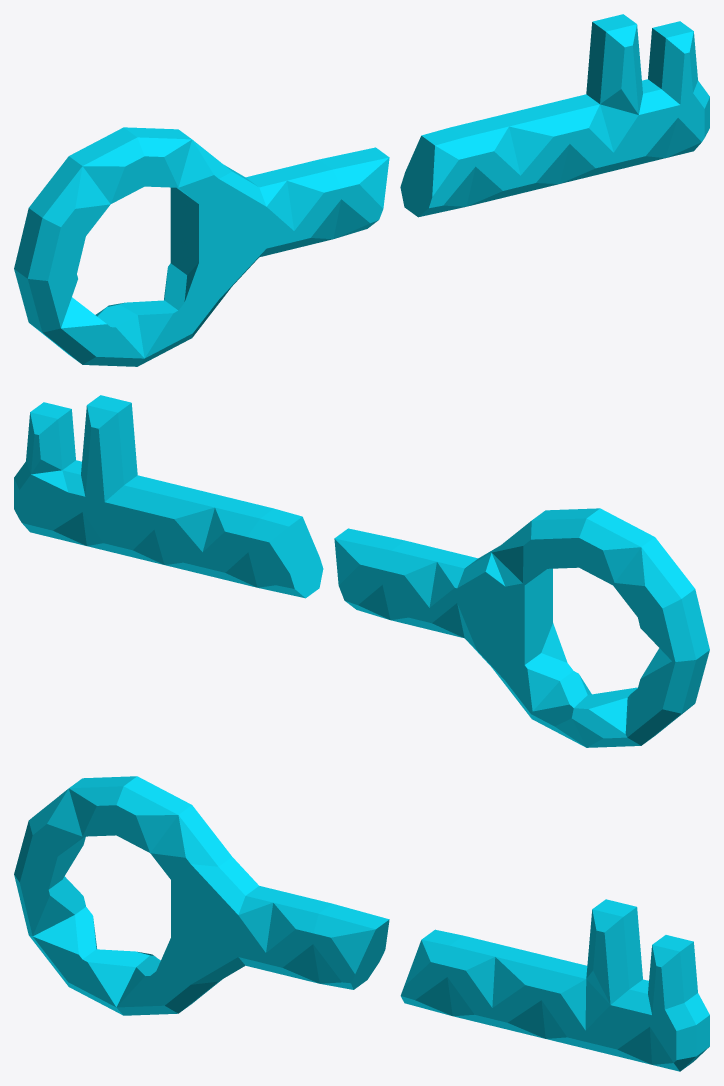
Rendered from key_broken_blue.glb.
3 views of the same model, one above another, from view 1: azimuth 30°, elevation 25°; view 2: azimuth 150°, elevation 25°; view 3: azimuth 330°, elevation 25° (orthographic).
Parts seen in each view (by area): view 1: Circle.022; view 2: Circle.022; view 3: Circle.022.
Boxes of the visible parts, <box> form: Circle.022: <box>14,14,709,366</box>; Circle.022: <box>14,395,709,747</box>; Circle.022: <box>14,776,709,1071</box>.
Bounding box in the file's own units: 2.01 × 0.6454 × 0.183.
Materials: 1 (1 with a texture image).
